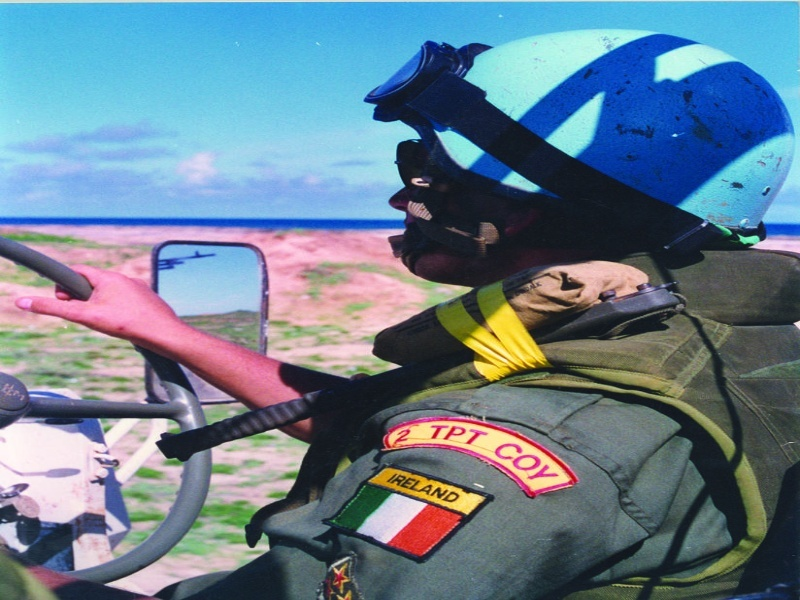Baret: (426, 30, 787, 238)
